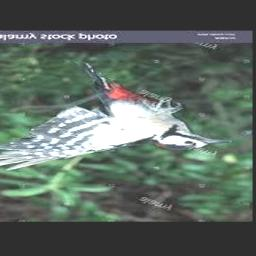Woodpecker: (0, 63, 232, 172)
